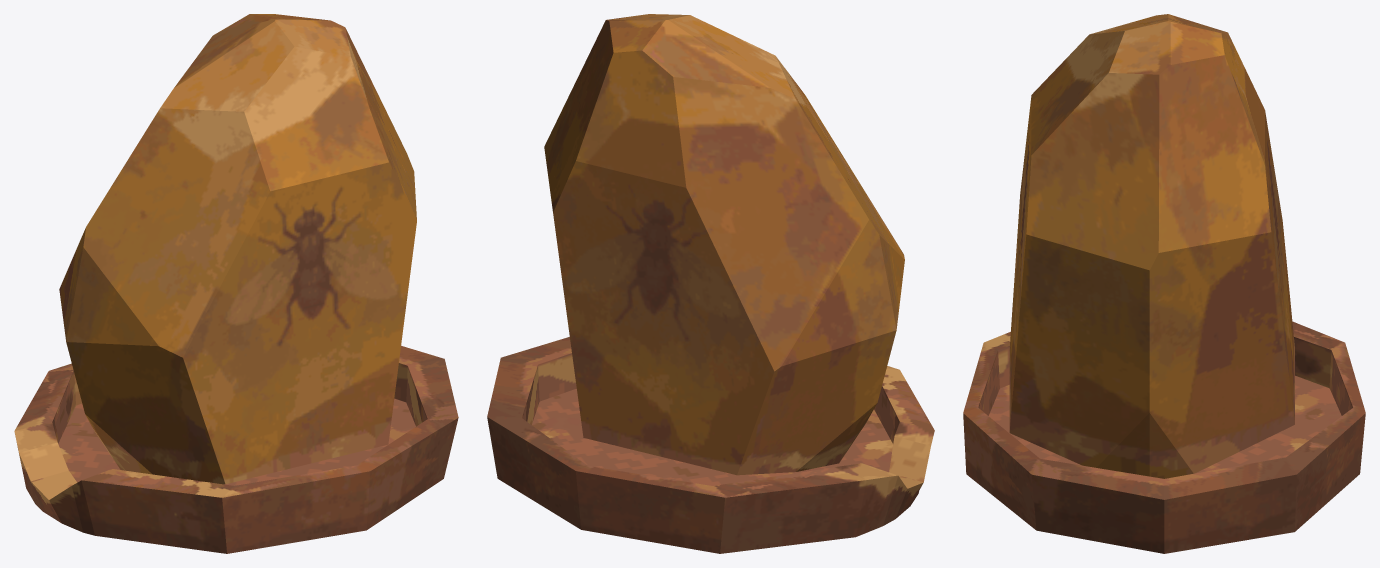
The model's file is CI22_AmberFly.fbx.
3 renders of one model, left to right at view 1: azimuth 30°, elevation 25°; view 2: azimuth 150°, elevation 25°; view 3: azimuth 270°, elevation 25°, orthographic. The views are drawn at different scales.
Parts seen in each view (by area): view 1: CI22_AmberFly; view 2: CI22_AmberFly; view 3: CI22_AmberFly.
Part boxes in pixels (x1,y1,x2,y2): CI22_AmberFly: (14,14,458,553); CI22_AmberFly: (487,14,934,553); CI22_AmberFly: (963,14,1365,553).
Bounding box in the file's own units: 0.201 × 0.2048 × 0.1639.
1 material, 1 textured.
